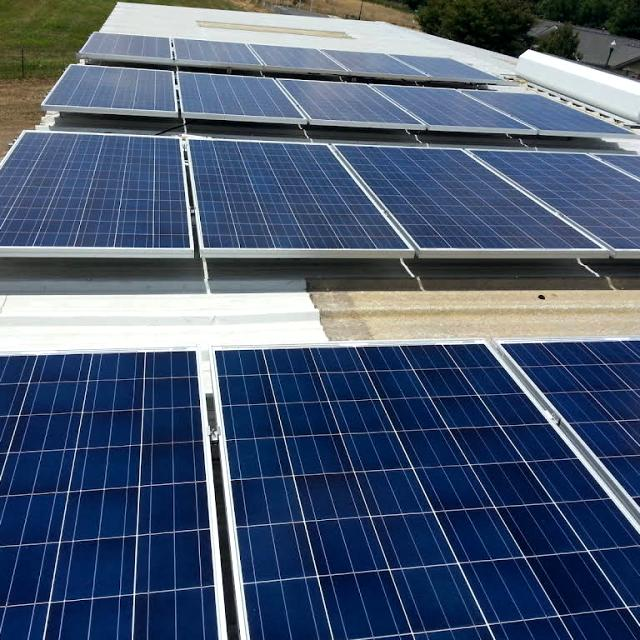crack: (178, 340, 640, 640), (5, 339, 302, 640), (318, 117, 595, 300), (172, 120, 418, 298), (0, 121, 207, 282), (485, 313, 640, 487), (269, 56, 442, 150), (457, 68, 617, 161), (368, 68, 530, 158), (38, 48, 186, 130), (165, 62, 318, 138)
